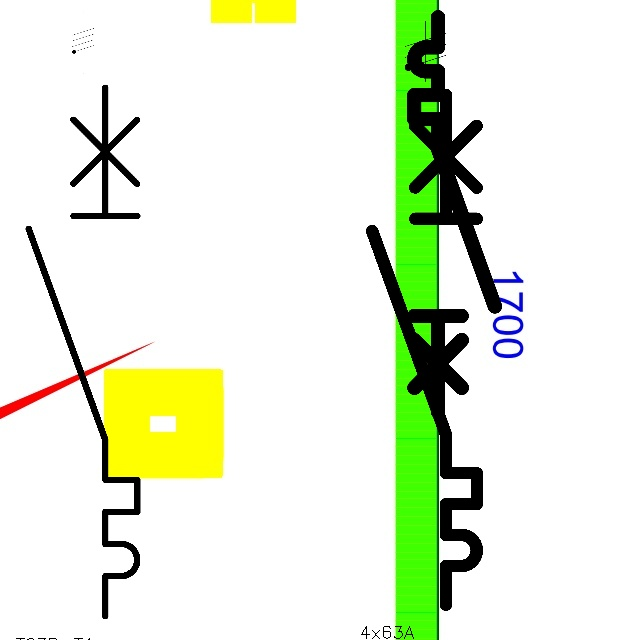interruptor_termomagnetico: (15, 73, 151, 629), (359, 81, 490, 617), (404, 7, 505, 422)
